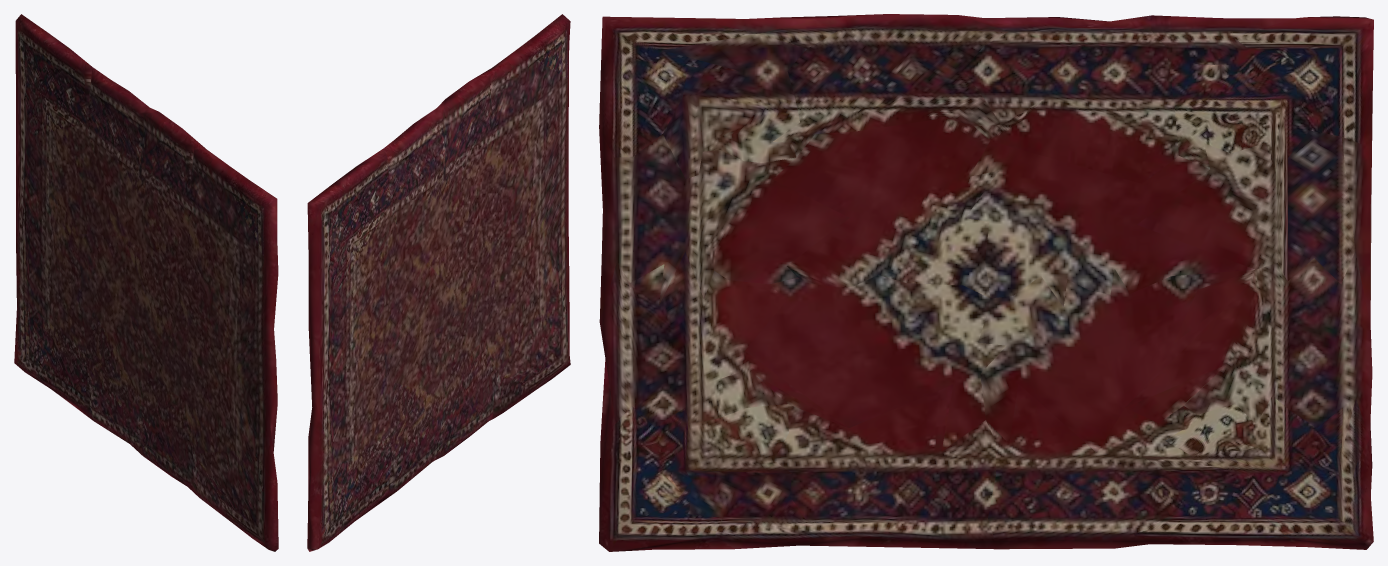
File: rug.glb
The picture shows the model from 3 angles, left to right: view 1: azimuth 30°, elevation 25°; view 2: azimuth 150°, elevation 25°; view 3: azimuth 270°, elevation 25°; orthographic projection. The views are drawn at different scales.
Visible parts, largest first — view 1: tripo_node_269bf33e-8427-462b-973d-13bfe91832c3; view 2: tripo_node_269bf33e-8427-462b-973d-13bfe91832c3; view 3: tripo_node_269bf33e-8427-462b-973d-13bfe91832c3.
Part boxes in pixels (x1=…): tripo_node_269bf33e-8427-462b-973d-13bfe91832c3: x1=14, y1=14, x2=278, y2=551; tripo_node_269bf33e-8427-462b-973d-13bfe91832c3: x1=307, y1=14, x2=570, y2=551; tripo_node_269bf33e-8427-462b-973d-13bfe91832c3: x1=599, y1=14, x2=1373, y2=551.
Bounding box in the file's own units: 0.024 × 0.7654 × 1.
1 material, 1 textured.
